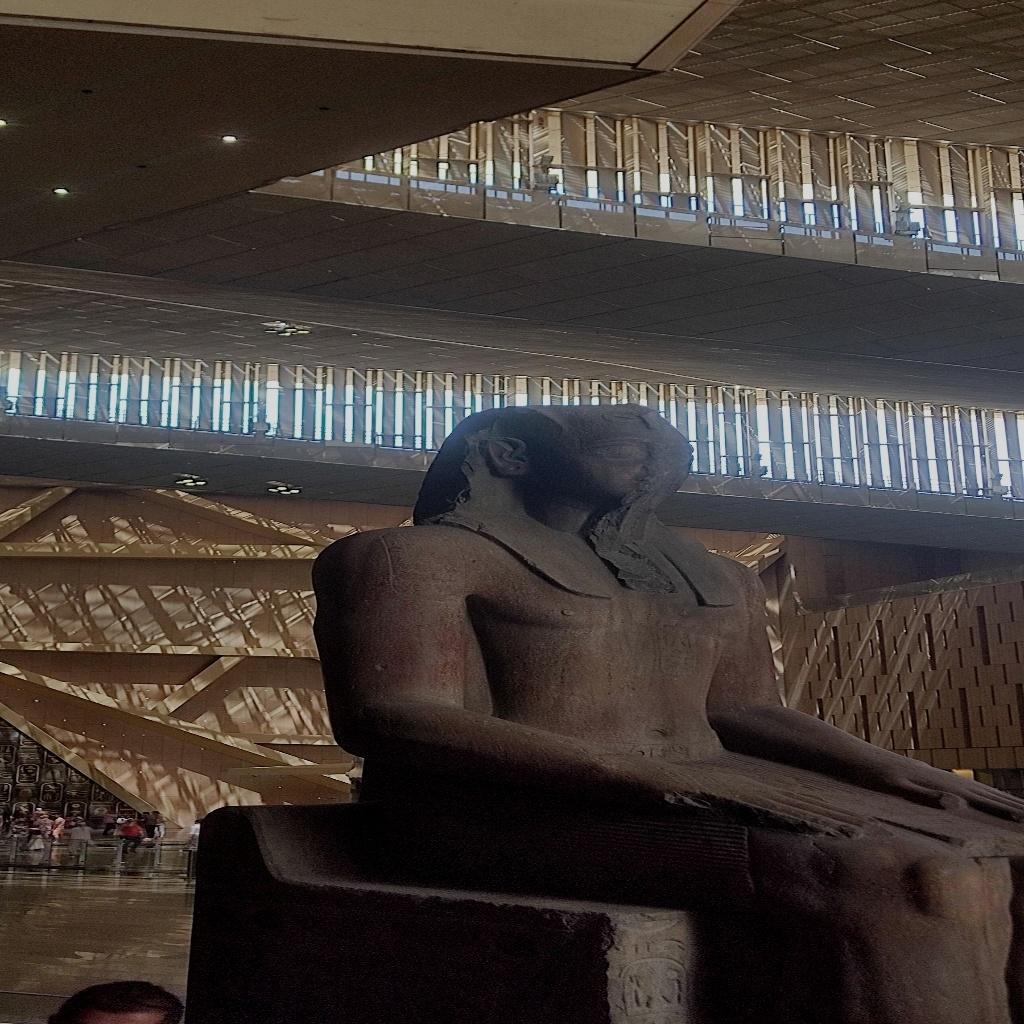Colossal Statue of Middle Kingdom King: (183, 401, 1018, 1020)
